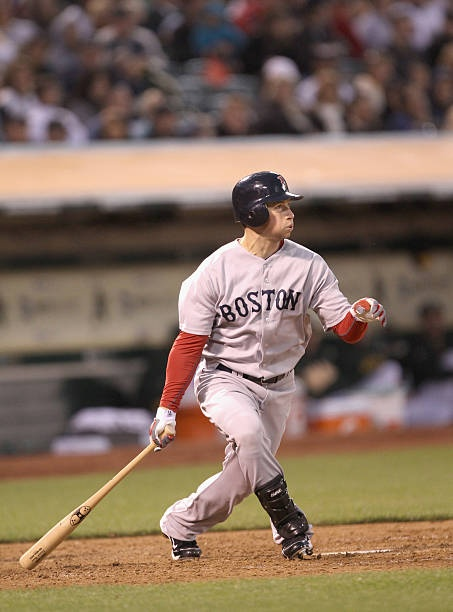bita: (18, 425, 175, 575)
